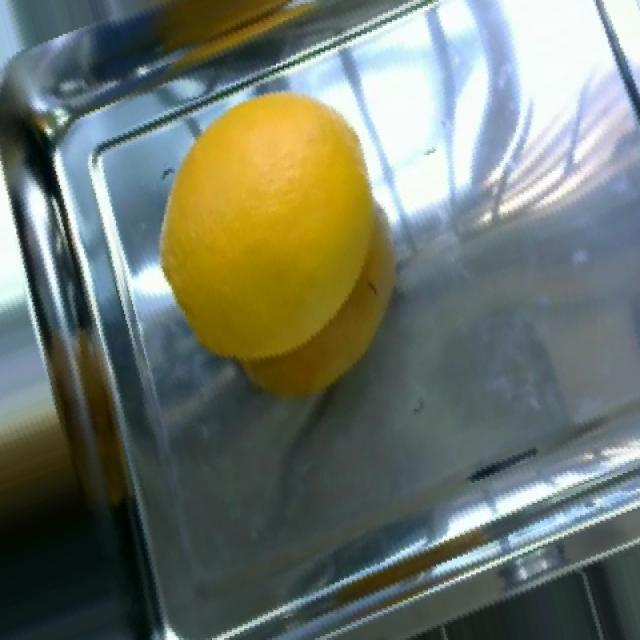Fruit: (148, 61, 405, 418)
